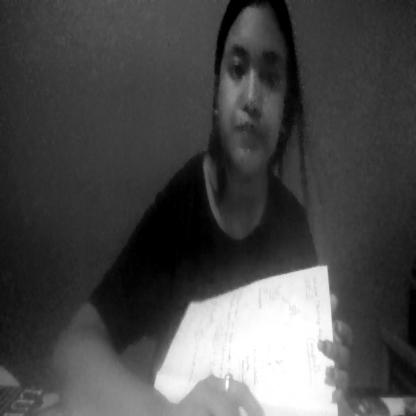Normal: (165, 279, 342, 416), (207, 7, 299, 171)
